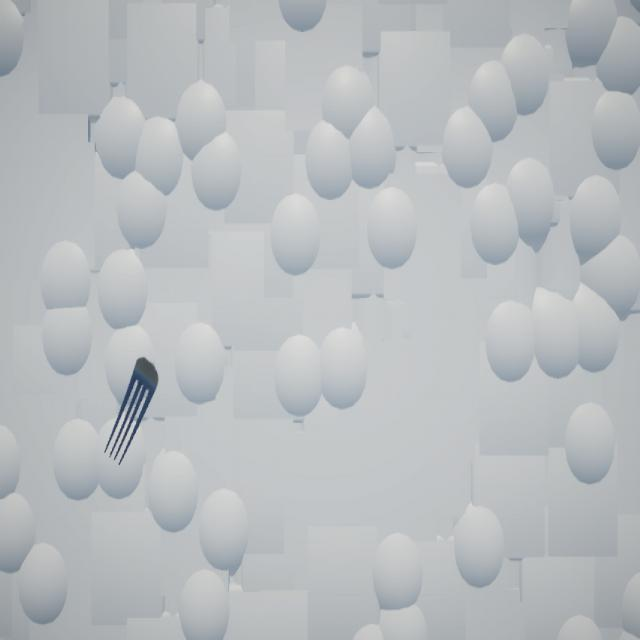top_folk: (105, 358, 160, 466)
